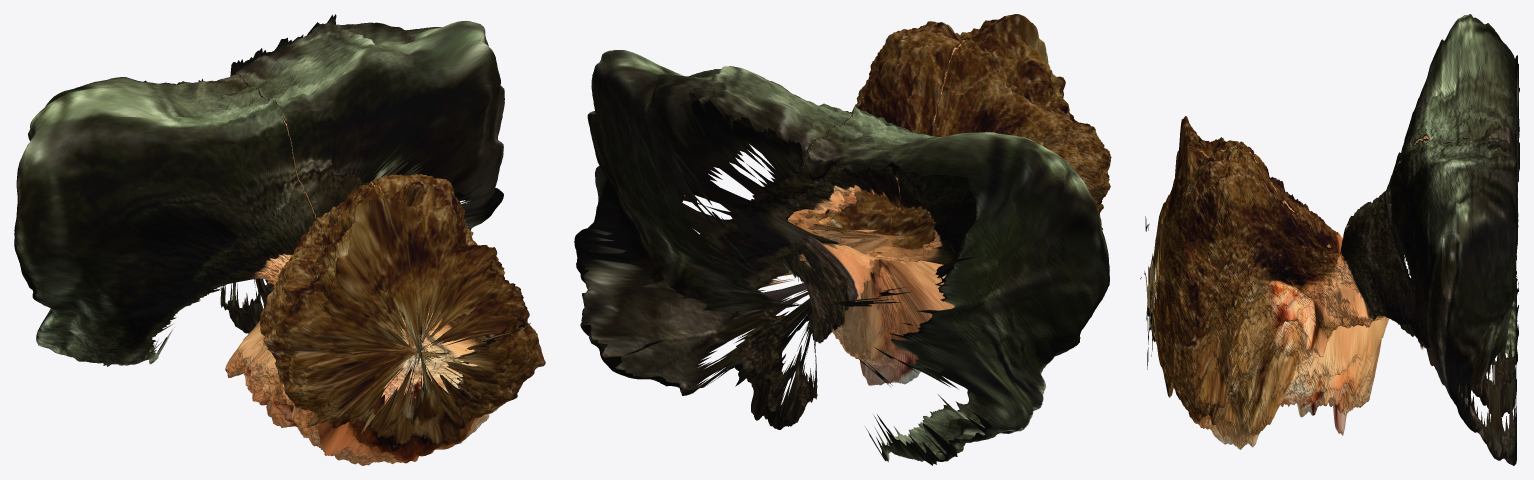
3 renders of one model, left to right at view 1: azimuth 30°, elevation 25°; view 2: azimuth 150°, elevation 25°; view 3: azimuth 270°, elevation 25°, orthographic. The views are drawn at different scales.
Visible parts, largest first — view 1: geometry_0; view 2: geometry_0; view 3: geometry_0.
Part boxes in pixels (x1,y1,x2,y2): geometry_0: (14, 14, 545, 465); geometry_0: (574, 14, 1111, 465); geometry_0: (1140, 14, 1519, 465).
Bounding box in the file's own units: 1.77 × 1.14 × 1.23.
1 material, 1 textured.
